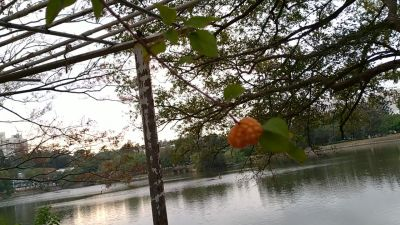eggs: (228, 116, 264, 150)
